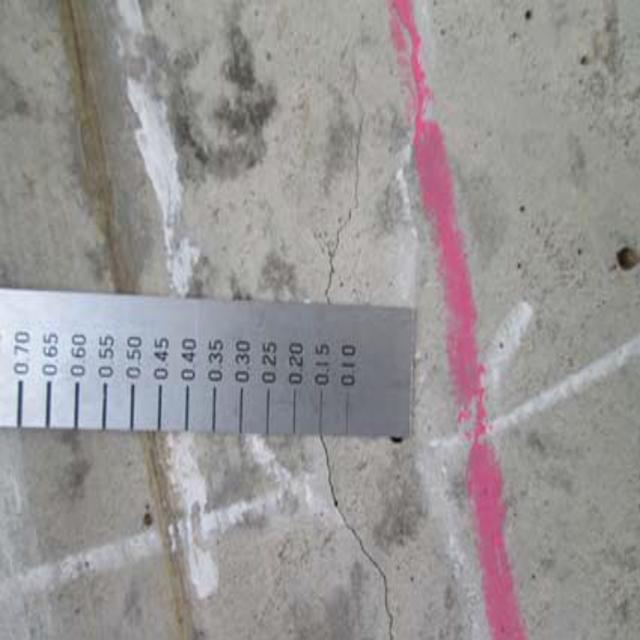crack: (293, 40, 386, 296), (301, 434, 406, 639)
